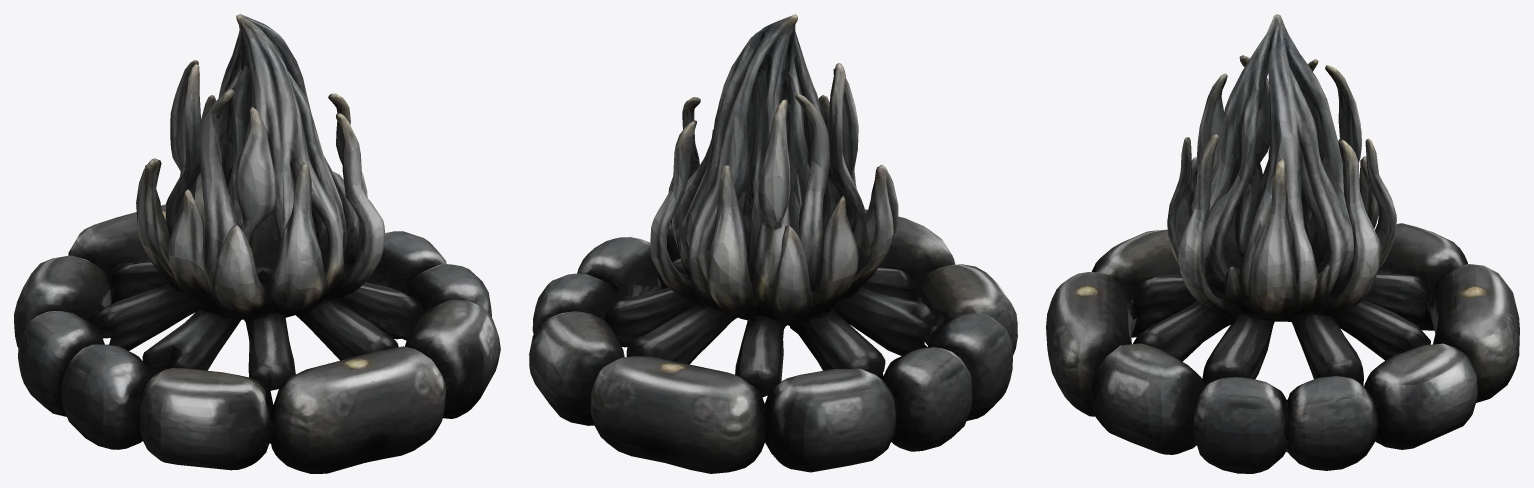
Rendered from campfire.glb.
3 views of the same model, side by side, from view 1: azimuth 30°, elevation 25°; view 2: azimuth 150°, elevation 25°; view 3: azimuth 270°, elevation 25° (orthographic). The views are drawn at different scales.
Visible parts, largest first — view 1: world; view 2: world; view 3: world.
Boxes of the visible parts, x1=… form: world: x1=14, y1=14, x2=500, y2=473; world: x1=529, y1=14, x2=1017, y2=473; world: x1=1046, y1=14, x2=1519, y2=473.
Bounding box in the file's own units: 0.9707 × 0.8551 × 0.9957.
1 material, 1 textured.
